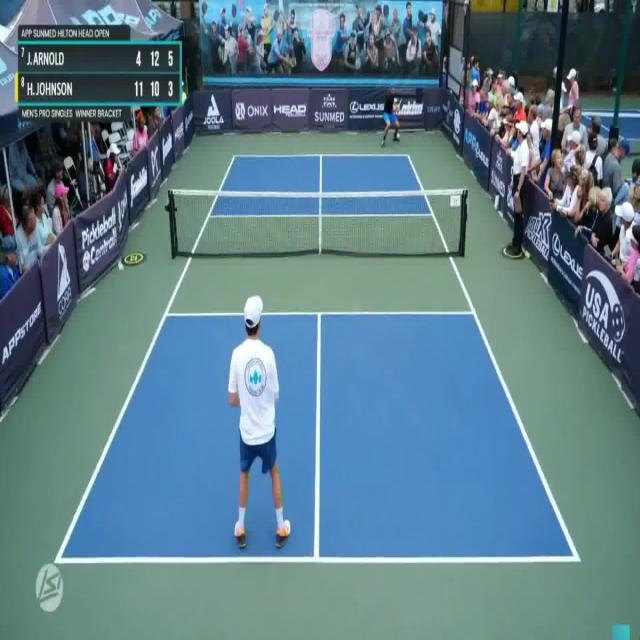Court: (57, 154, 577, 562)
ball: (394, 130, 400, 141)
